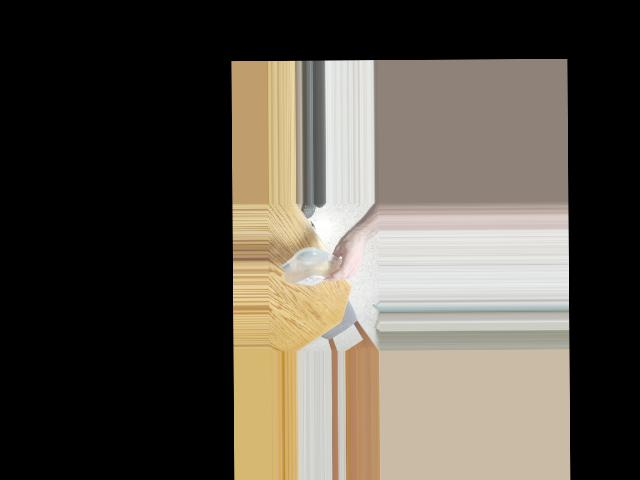cheese: (281, 249, 353, 287)
